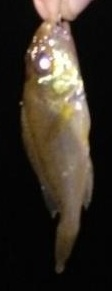Gymnocephalus cernuus: (20, 20, 92, 271)
